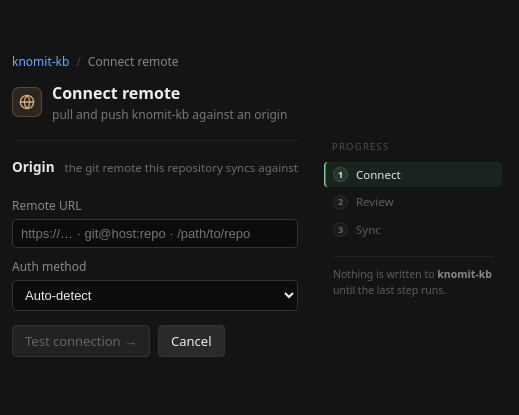
Test case: RemoteConnectWizard › returns to the form, with the reason, when the session cannot be created
The width and height of the screenshot is (519, 415).
Step 1. Type "https://example.com/repo.git" into the field with test id "wizard-url" → {"x": 155, "y": 234}, box [12,219,298,248]
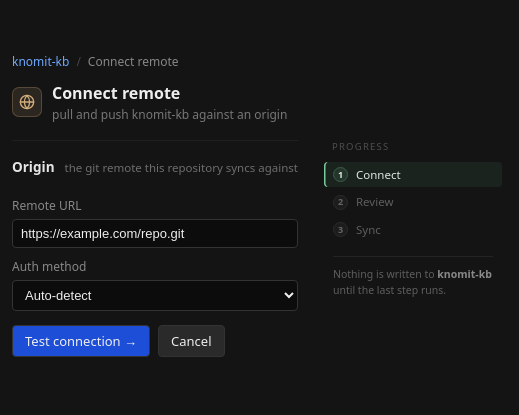
Step 2. Click the button with test id "wizard-test" → {"x": 81, "y": 341}, box [12,325,150,357]
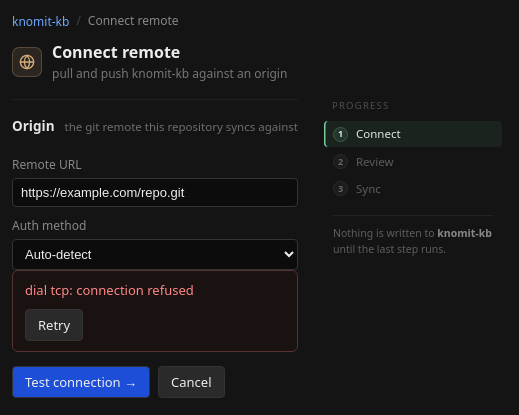
Check: the field with test id "wizard-url" is enabled, box [12,178,298,207]
Check: the button with test id "wizard-test" is enabled, box [12,366,150,398]
Check: the text "dial tcp: connection refused" is shown, box [25,281,194,299]
